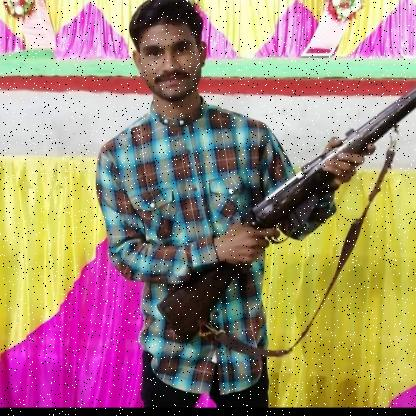rifle: (155, 87, 416, 347)
